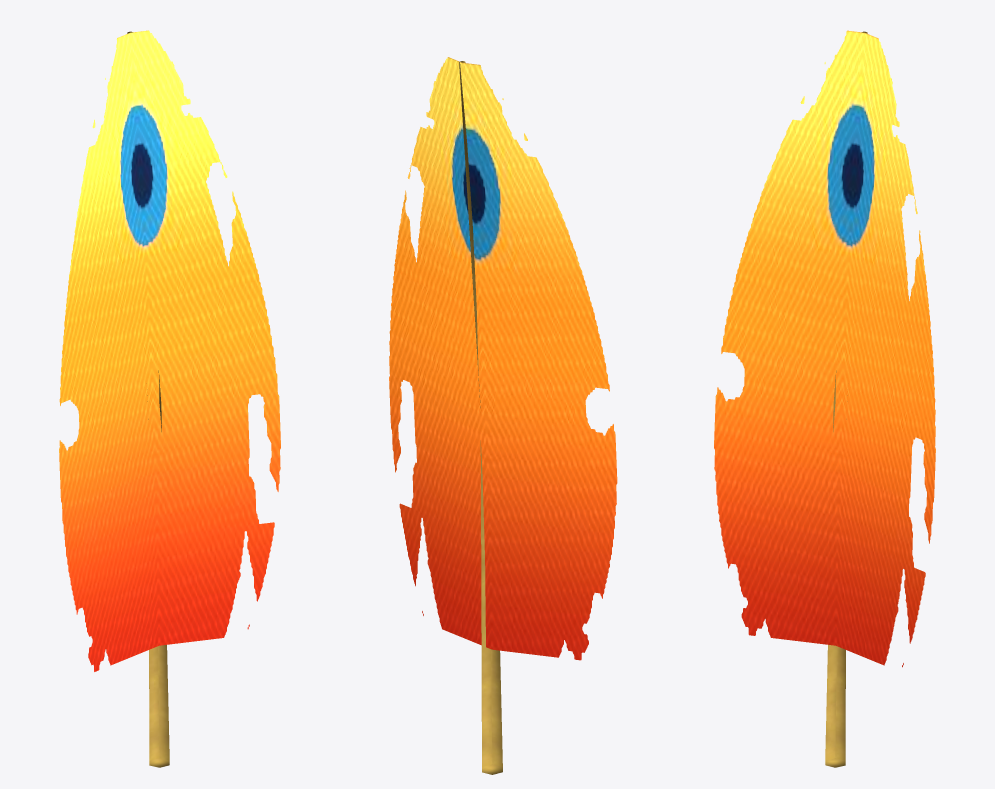
File: phoenix_feather.glb
The picture shows the model from 3 angles, left to right: view 1: azimuth 30°, elevation 25°; view 2: azimuth 150°, elevation 25°; view 3: azimuth 330°, elevation 25°; orthographic projection. The views are drawn at different scales.
Parts seen in each view (by area): view 1: PhoenixVane, PhoenixQuill; view 2: PhoenixVane, PhoenixQuill; view 3: PhoenixVane, PhoenixQuill.
Part boxes in pixels (x1=…): PhoenixVane: x1=59, y1=30, x2=280, y2=671; PhoenixQuill: x1=127, y1=31, x2=169, y2=767; PhoenixVane: x1=389, y1=57, x2=617, y2=660; PhoenixQuill: x1=459, y1=61, x2=502, y2=774; PhoenixVane: x1=714, y1=30, x2=935, y2=667; PhoenixQuill: x1=825, y1=31, x2=867, y2=767.
Size of the model in its own units: 0.16 by 0.4003 by 0.0515.
2 materials, 2 textured.
